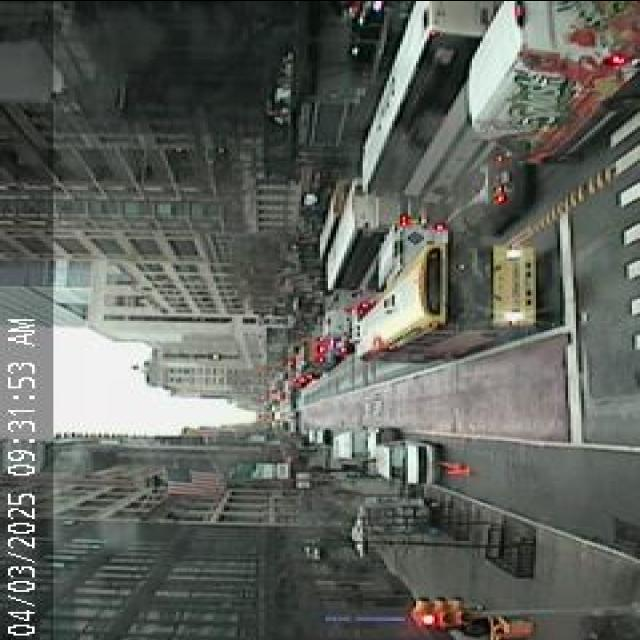parkedCars: (291, 427, 431, 472)
